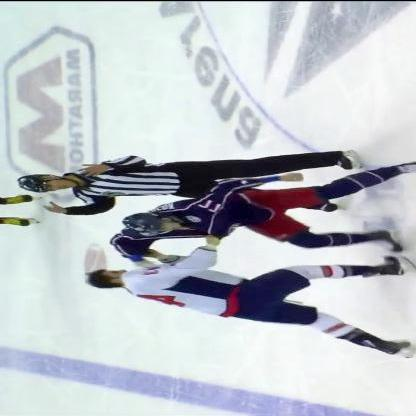voilence: (87, 174, 411, 324)
